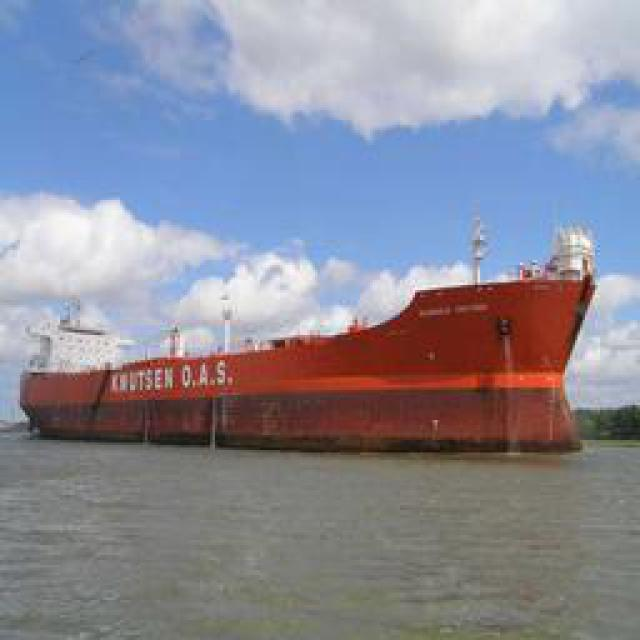Ship: (22, 249, 610, 449)
